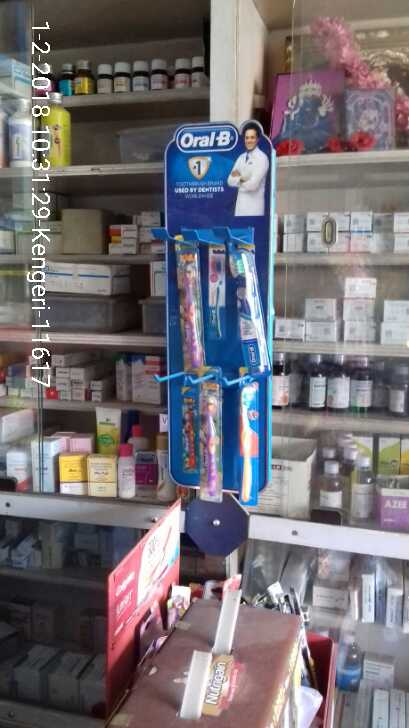oralb: (228, 237, 275, 375), (240, 367, 258, 504)
